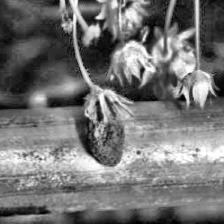Gray Mold: (83, 84, 134, 168)
